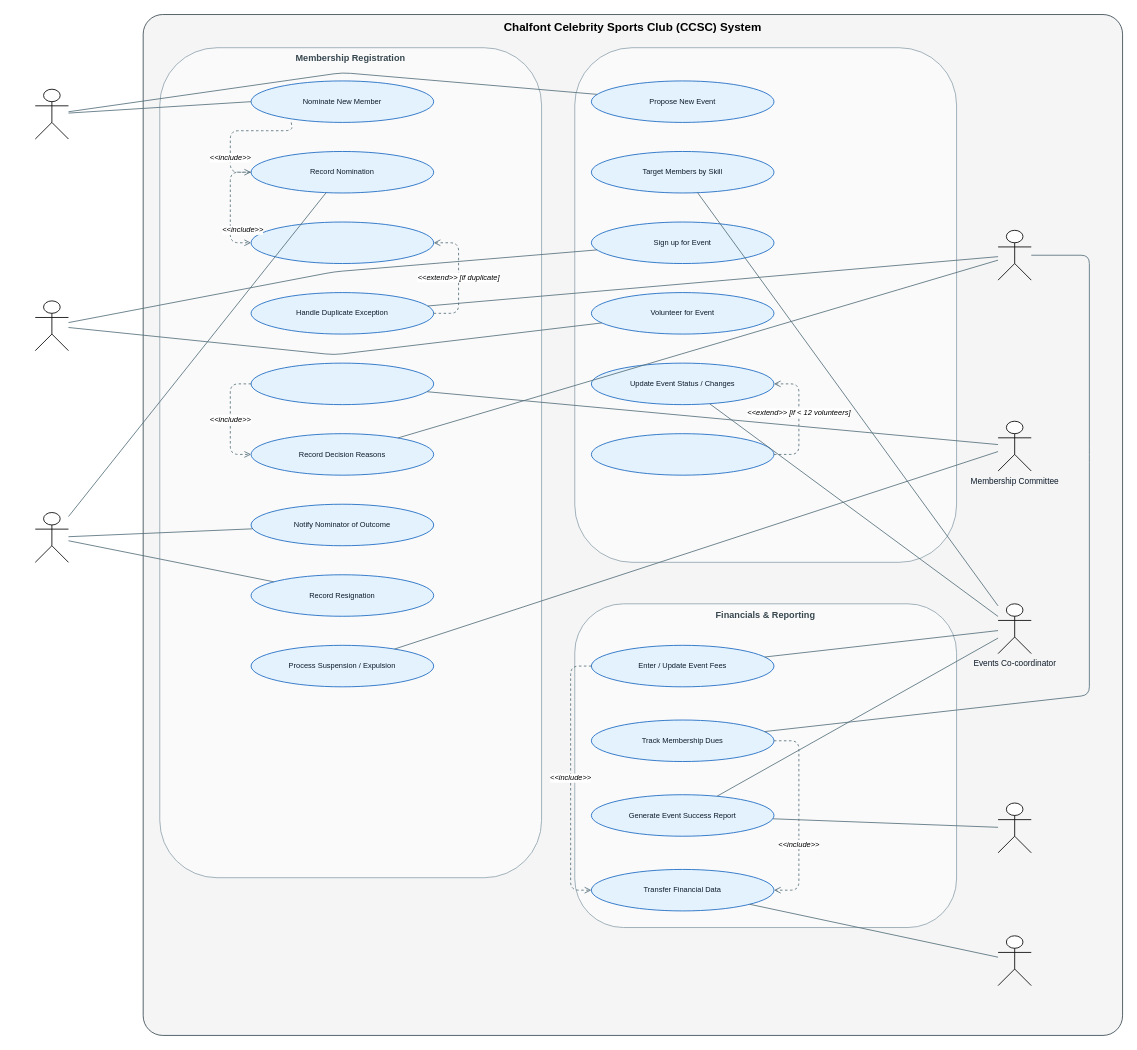
Some shapes in this 1137 by 1050 pixel diagram are drawn without their labels. Each missing label, with the box of its shape:
<<System>> Financial System: (997, 935, 1031, 986)
Cancel Event (< 12 Volunteers): (591, 433, 774, 475)
Celebrity Member: (34, 300, 68, 351)
Check for Duplicate: (250, 221, 434, 264)
Event Management: (574, 47, 957, 562)
Executive Committee: (997, 802, 1031, 853)
Membership Clerk: (34, 512, 68, 562)
Membership Secretary: (997, 229, 1031, 280)
Nominating Member: (34, 88, 68, 139)
Review Nominee Decision: (250, 362, 434, 405)
